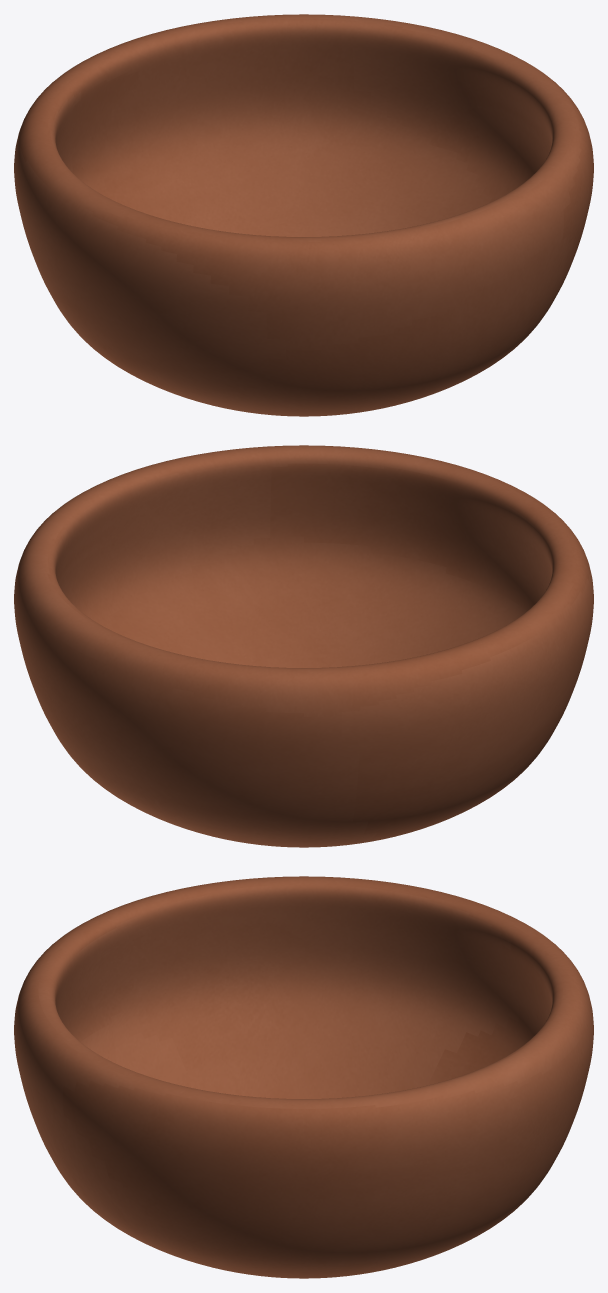
File: fb04add4-9a0a-4fec-8f86-7766cb28d758.glb
The picture shows the model from 3 angles, top to bottom: view 1: azimuth 30°, elevation 25°; view 2: azimuth 150°, elevation 25°; view 3: azimuth 270°, elevation 25°; orthographic projection.
Parts seen in each view (by area): view 1: Cube; view 2: Cube; view 3: Cube.
Boxes of the visible parts, x1,y1,x2,y2 form: Cube: [14, 14, 593, 416]; Cube: [14, 445, 593, 847]; Cube: [14, 876, 593, 1278].
Bounding box in the file's own units: 2.34 × 1.07 × 2.34.
1 material, 1 textured.
